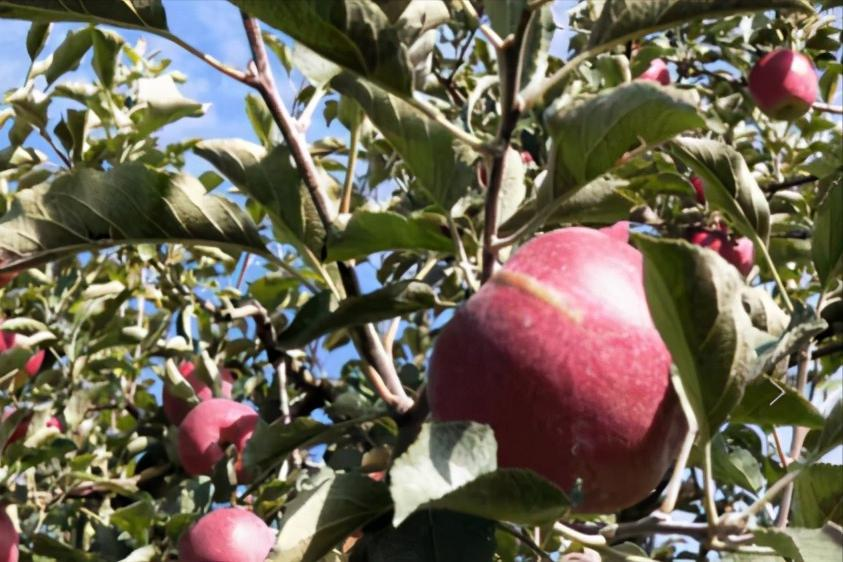apple: (423, 225, 701, 514), (176, 397, 268, 483), (746, 47, 821, 123)
